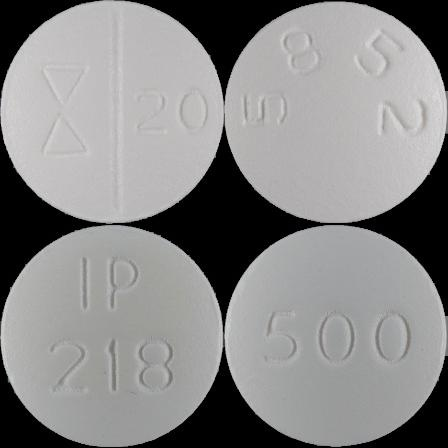43063-521: (0, 0, 224, 224)
